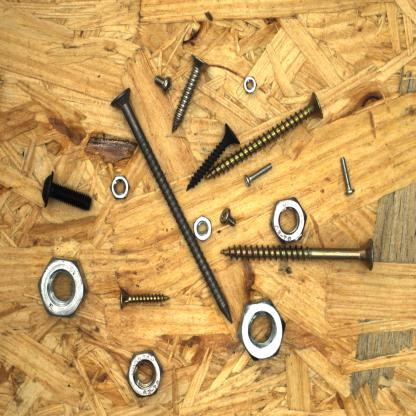screw: (107, 82, 239, 326), (203, 86, 327, 184), (217, 235, 378, 274), (186, 119, 244, 196), (168, 49, 212, 138), (37, 171, 95, 218), (115, 283, 172, 313), (241, 161, 278, 190), (337, 154, 356, 200), (152, 70, 178, 98), (215, 204, 240, 230)
